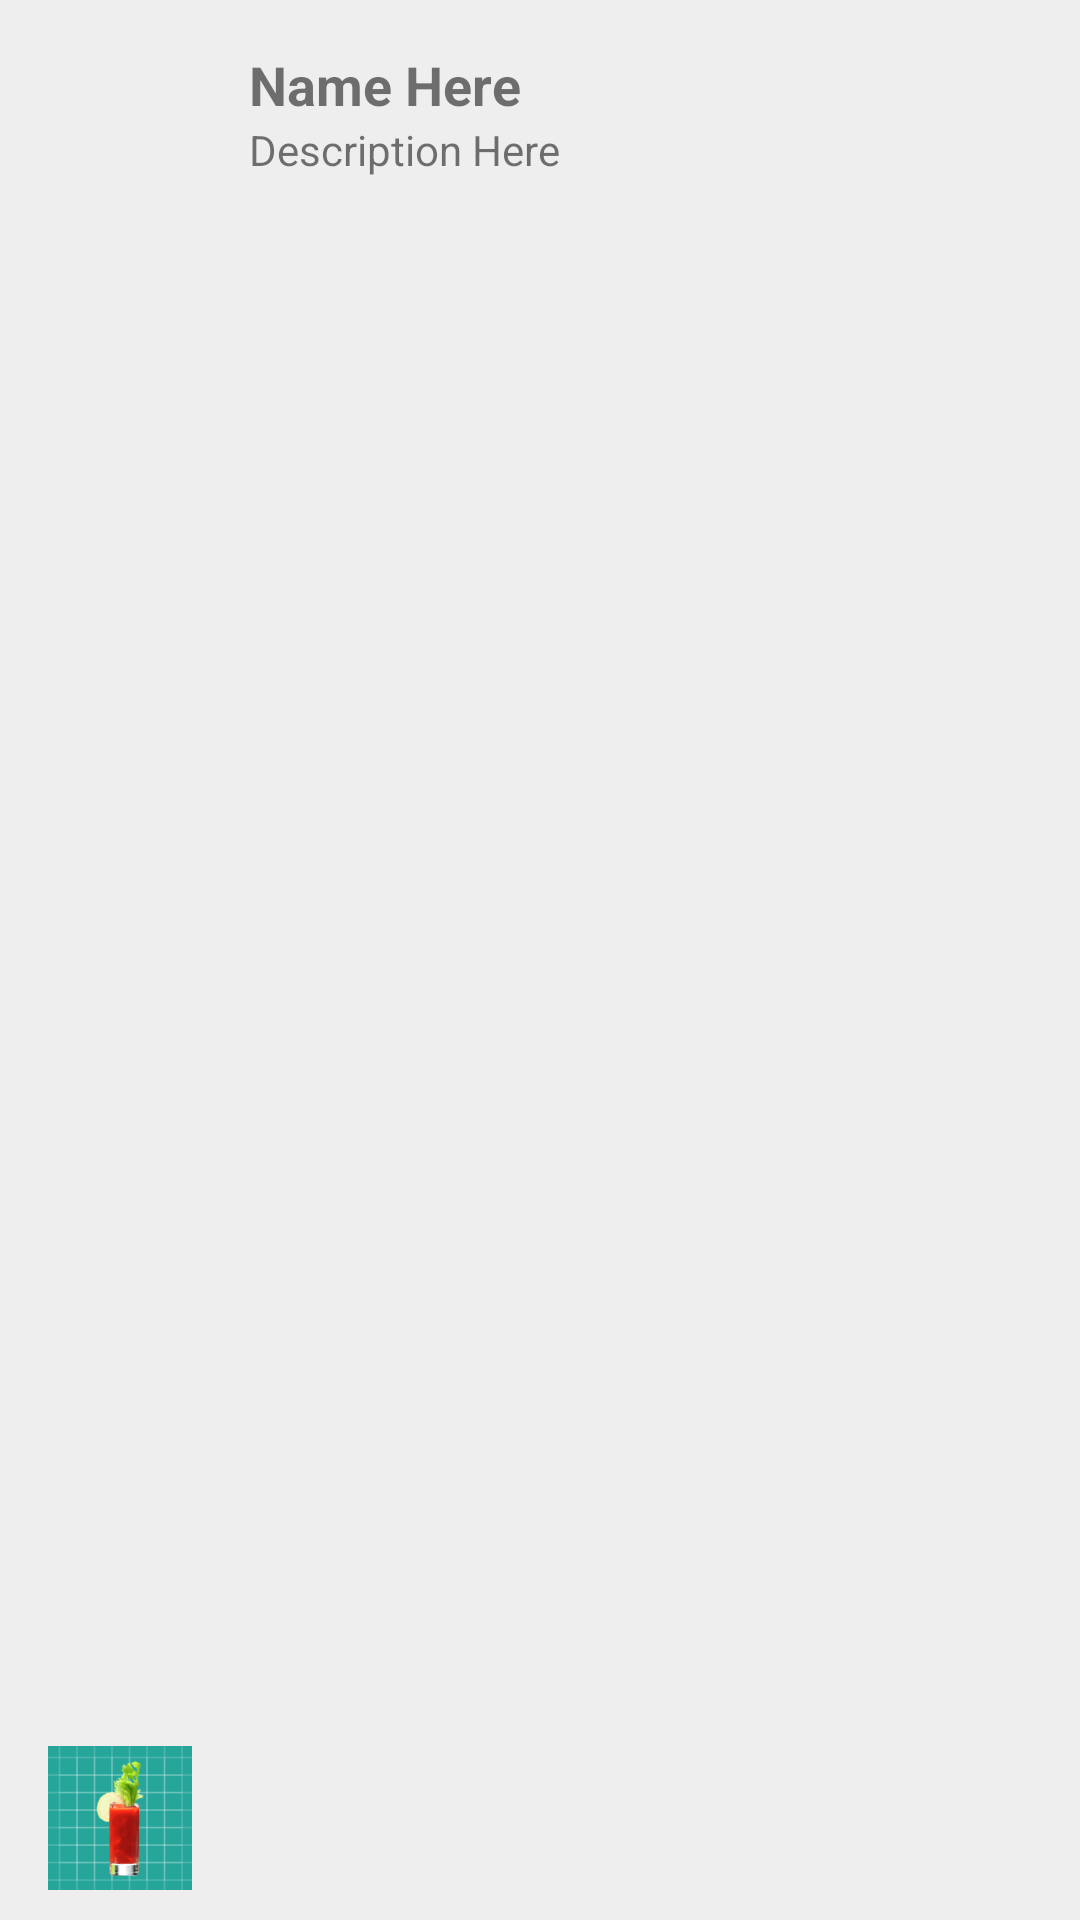

Icon bounding boxes for this 1080px×1920px phone screenshot, format (x1, y1, x2, y2):
bloody mary: (48, 1746, 192, 1890)
